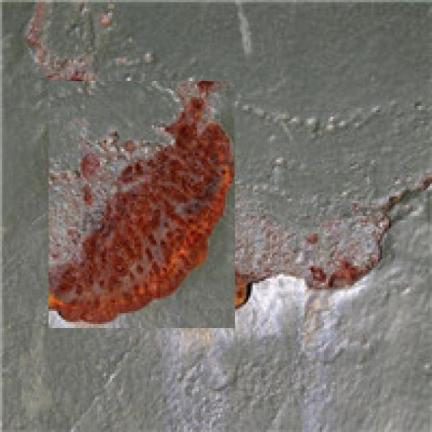karat: (44, 92, 238, 325)
